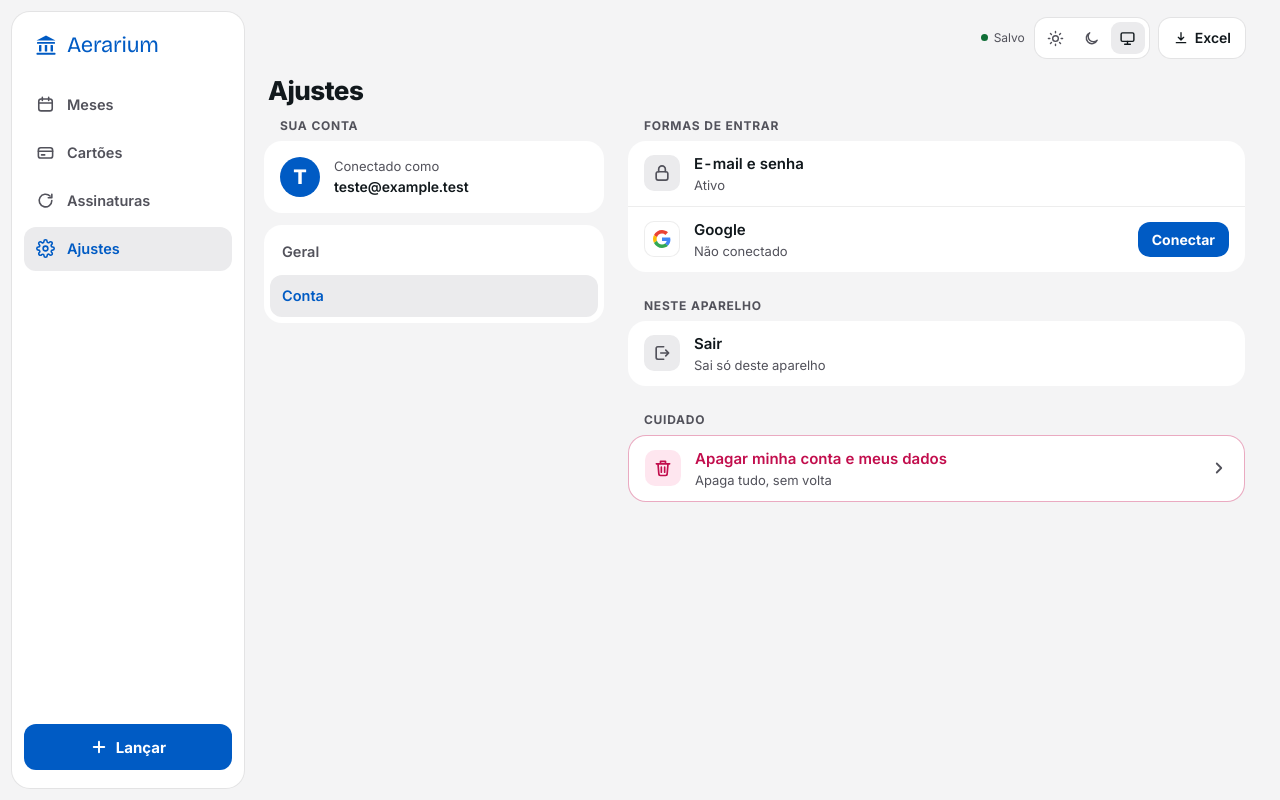
Test case: apagar minha conta › cancelar fecha sem apagar
Click the button "Apagar minha conta e meus dados" at (936, 468), box [629, 436, 1244, 501]
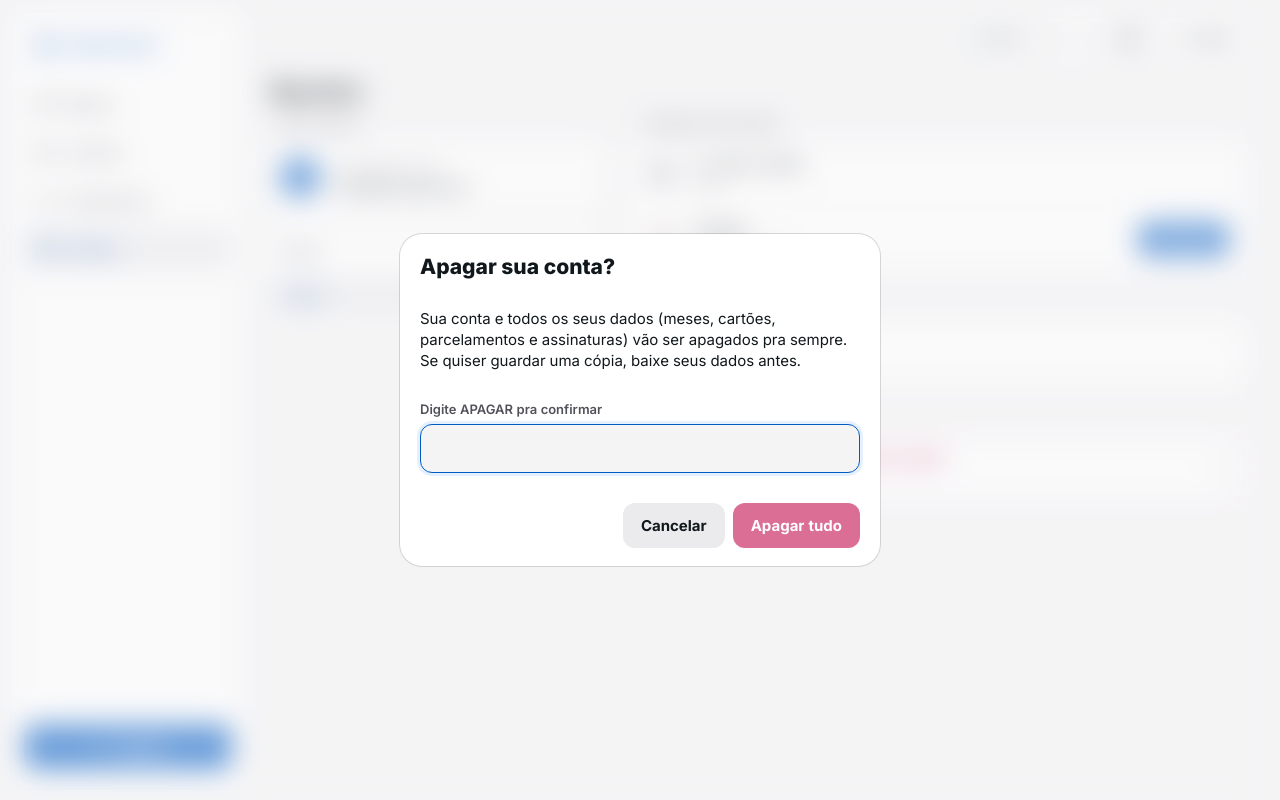
Click the button "Cancelar" at (674, 525), box [623, 503, 725, 548]
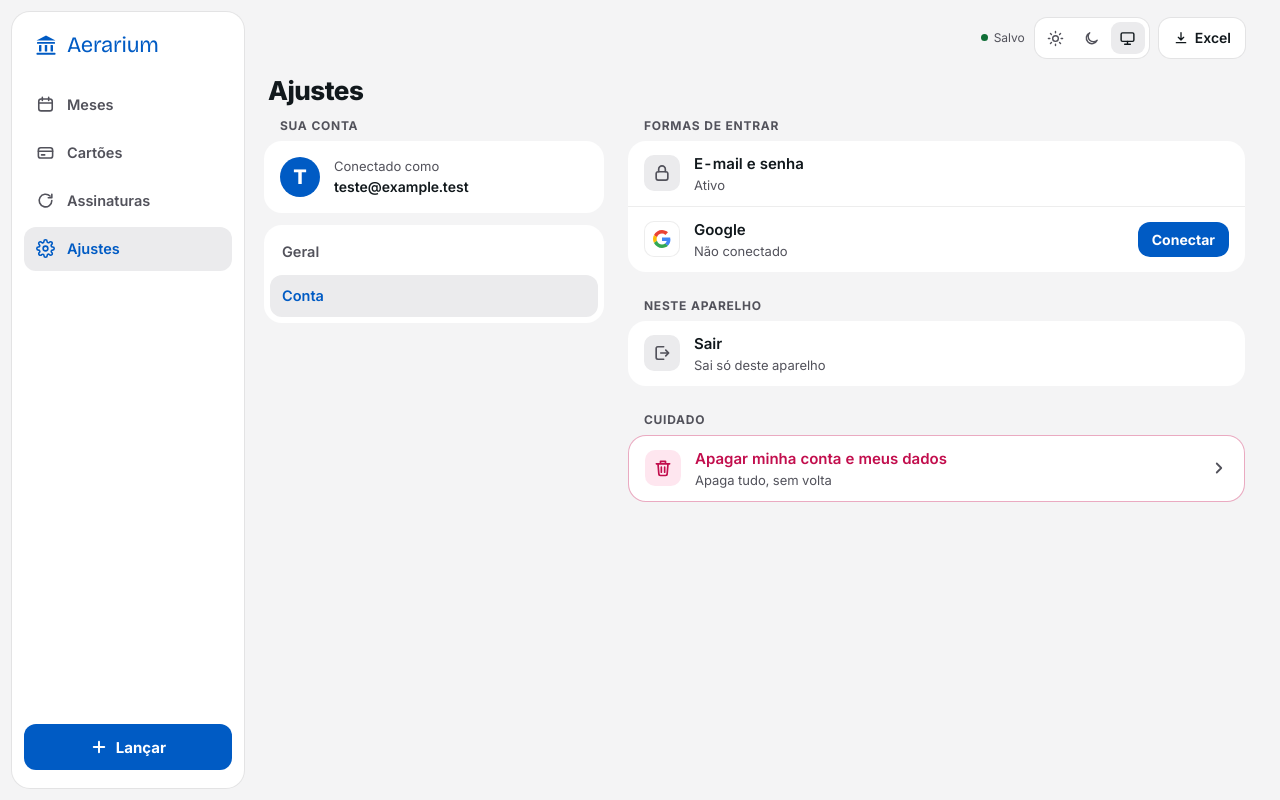
Result: the dialog is gone
